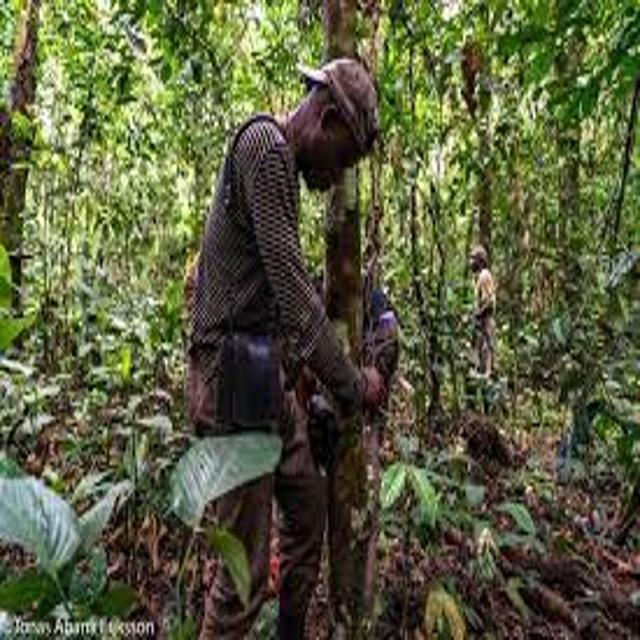poacher: (127, 43, 419, 638), (442, 226, 531, 403)
